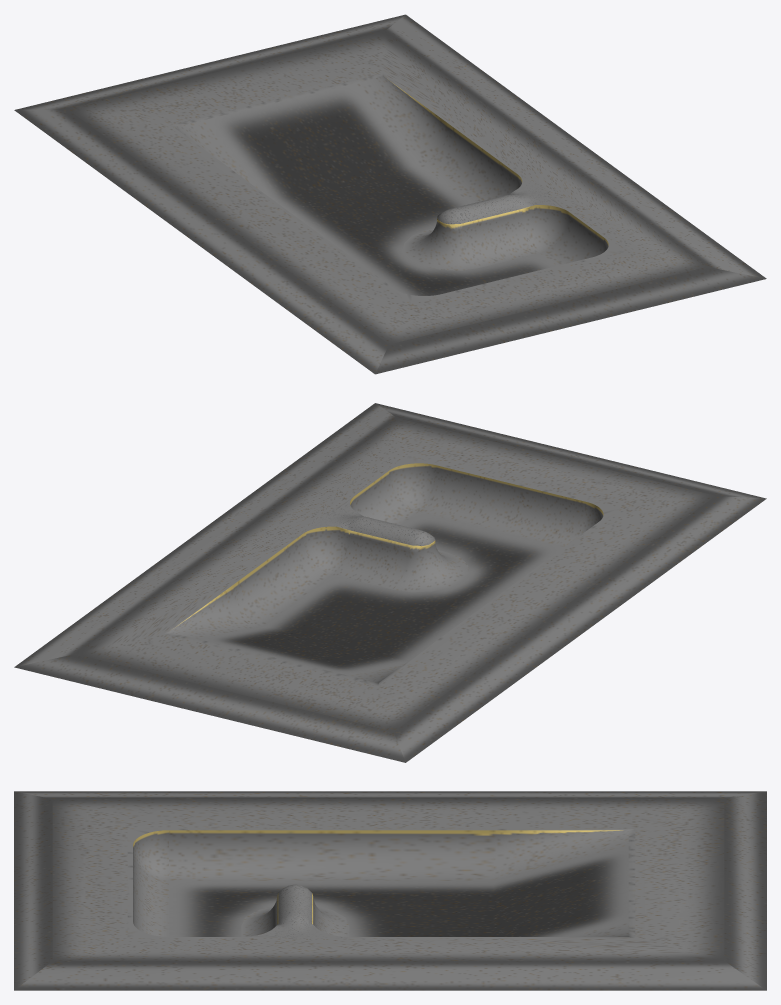
Rendered from skatepark.fbx.
3 renders of one model, top to bottom at view 1: azimuth 30°, elevation 25°; view 2: azimuth 150°, elevation 25°; view 3: azimuth 270°, elevation 25°, orthographic. The views are drawn at different scales.
Parts seen in each view (by area): view 1: Sphere.007; view 2: Sphere.007; view 3: Sphere.007.
Part boxes in pixels (<box>): Sphere.007: <box>14,14,766,374</box>; Sphere.007: <box>14,403,766,762</box>; Sphere.007: <box>14,791,766,990</box>.
Bounding box in the file's own units: 13.08 × 1.24 × 20.88.
